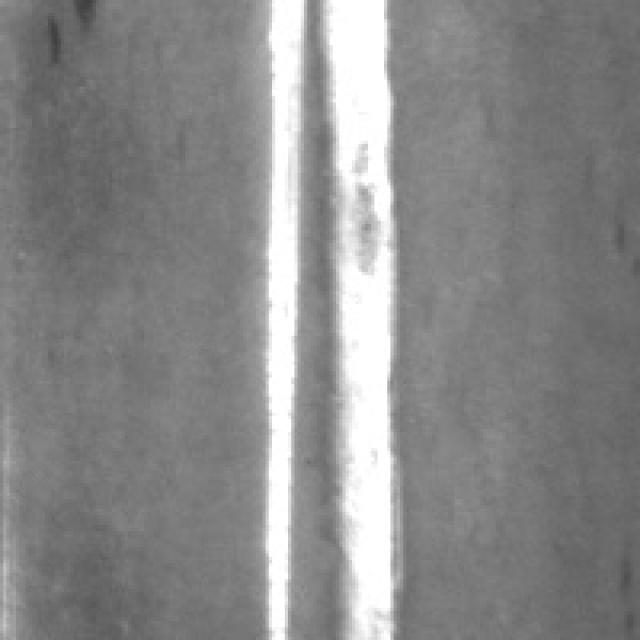scratches: (291, 0, 403, 634), (256, 0, 307, 630)
